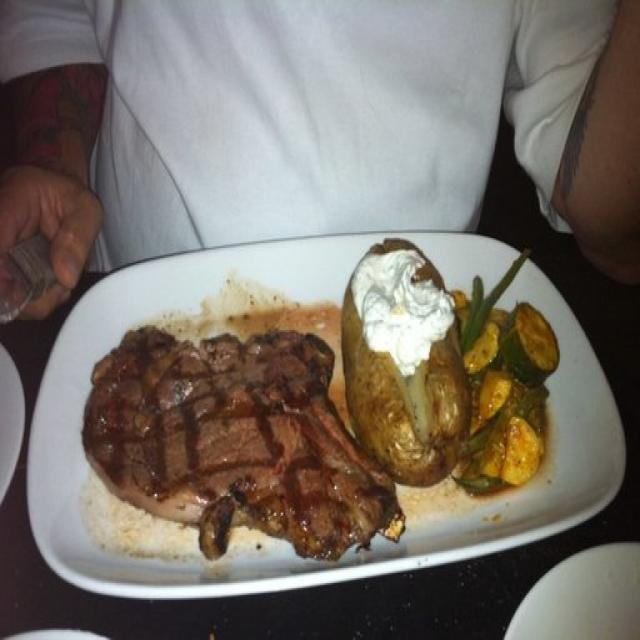Steak: (48, 275, 360, 573)
